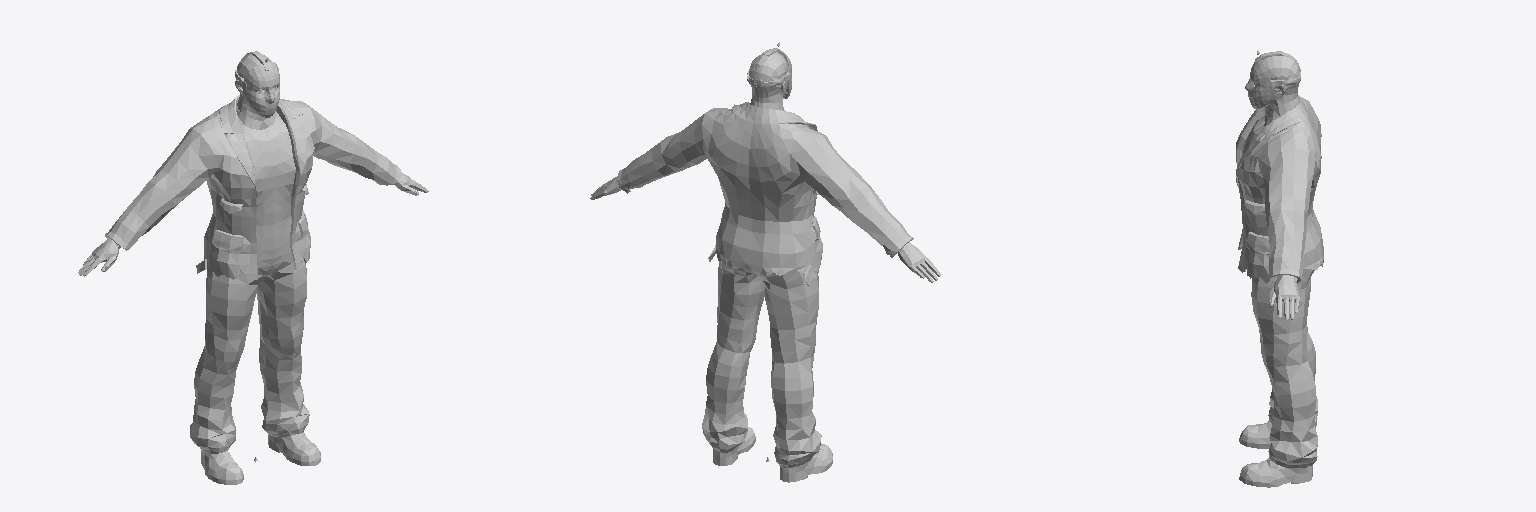
File: jason.obj
3 views of the same model, side by side, from view 1: azimuth 30°, elevation 25°; view 2: azimuth 150°, elevation 25°; view 3: azimuth 270°, elevation 25° (orthographic).
Parts seen in each view (by area): view 1: Object01; view 2: Object01; view 3: Object01.
Boxes of the visible parts, x1=… form: Object01: x1=78, y1=51, x2=428, y2=484; Object01: x1=590, y1=48, x2=940, y2=482; Object01: x1=1236, y1=51, x2=1323, y2=487.
Bounding box in the file's own units: 147 × 167 × 32.65.